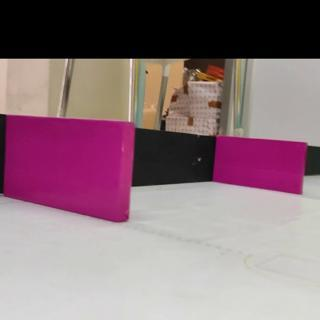xparking: (8, 121, 128, 211), (217, 141, 306, 190)
